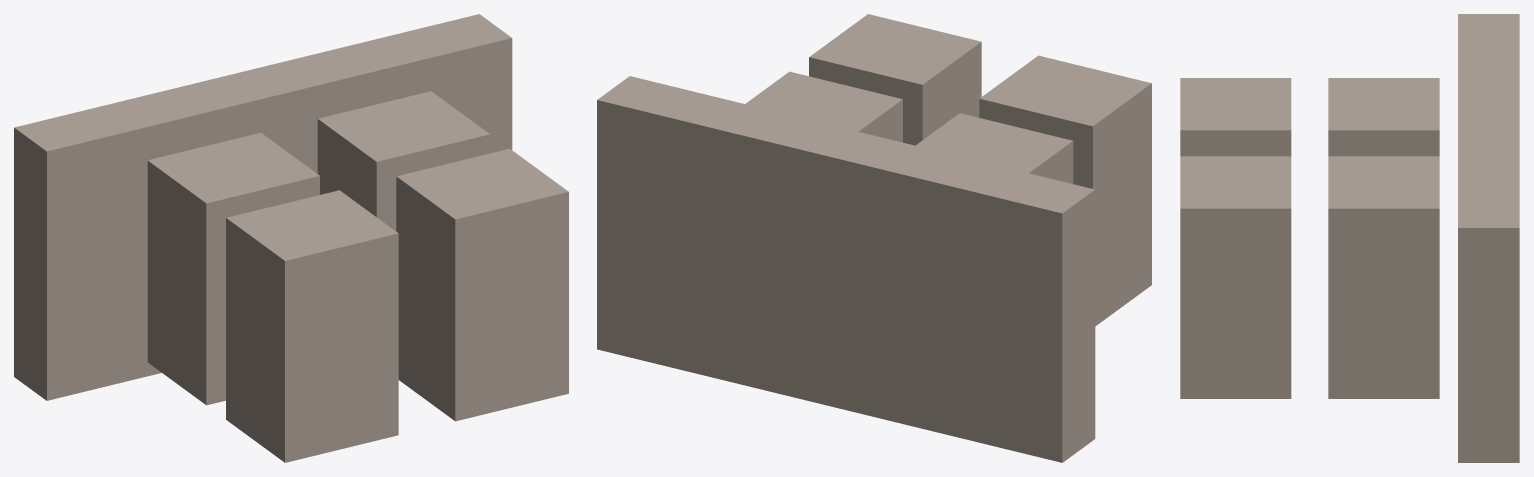
File: workshop-parts-bin_lod0.glb
The picture shows the model from 3 angles, left to right: view 1: azimuth 30°, elevation 25°; view 2: azimuth 150°, elevation 25°; view 3: azimuth 270°, elevation 25°; orthographic projection. The views are drawn at different scales.
Parts seen in each view (by area): view 1: world; view 2: world; view 3: world.
Part boxes in pixels (x1,y1,x2,y2): world: (14, 14, 568, 462); world: (597, 14, 1151, 462); world: (1180, 14, 1519, 462).
Size of the model in its own units: 0.82 by 0.42 by 0.55.
